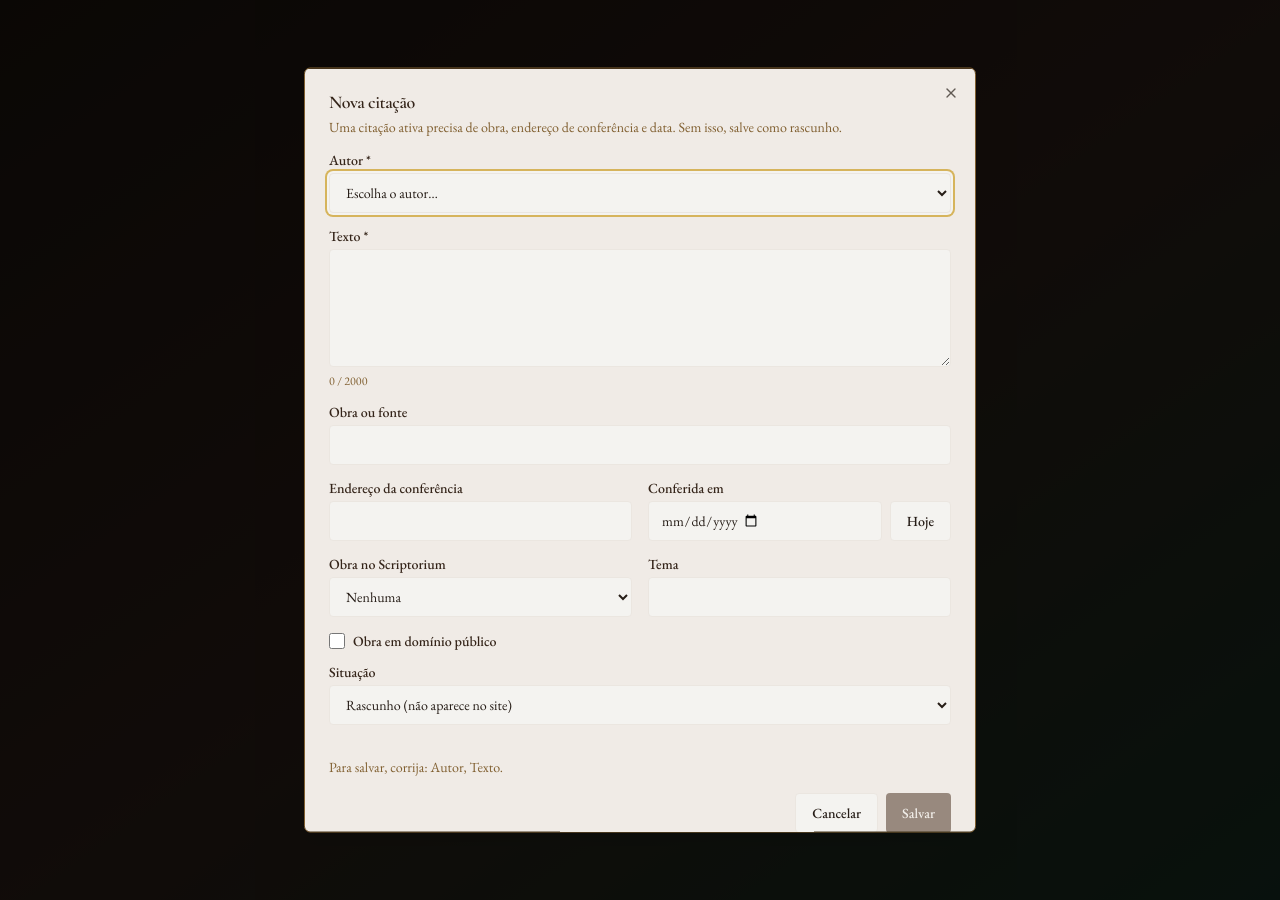
Test: QuoteFormDialog: aviso do Gerador › Salvar explica o motivo e os erros são anunciados (menores da revisão da F3) › o motivo some quando tudo está preenchido
This screenshot has width=1280, height=900.
Select "Santo Agostinho" in the dropdown labelled "Autor *" at (640, 192), box [329,172,951,212]
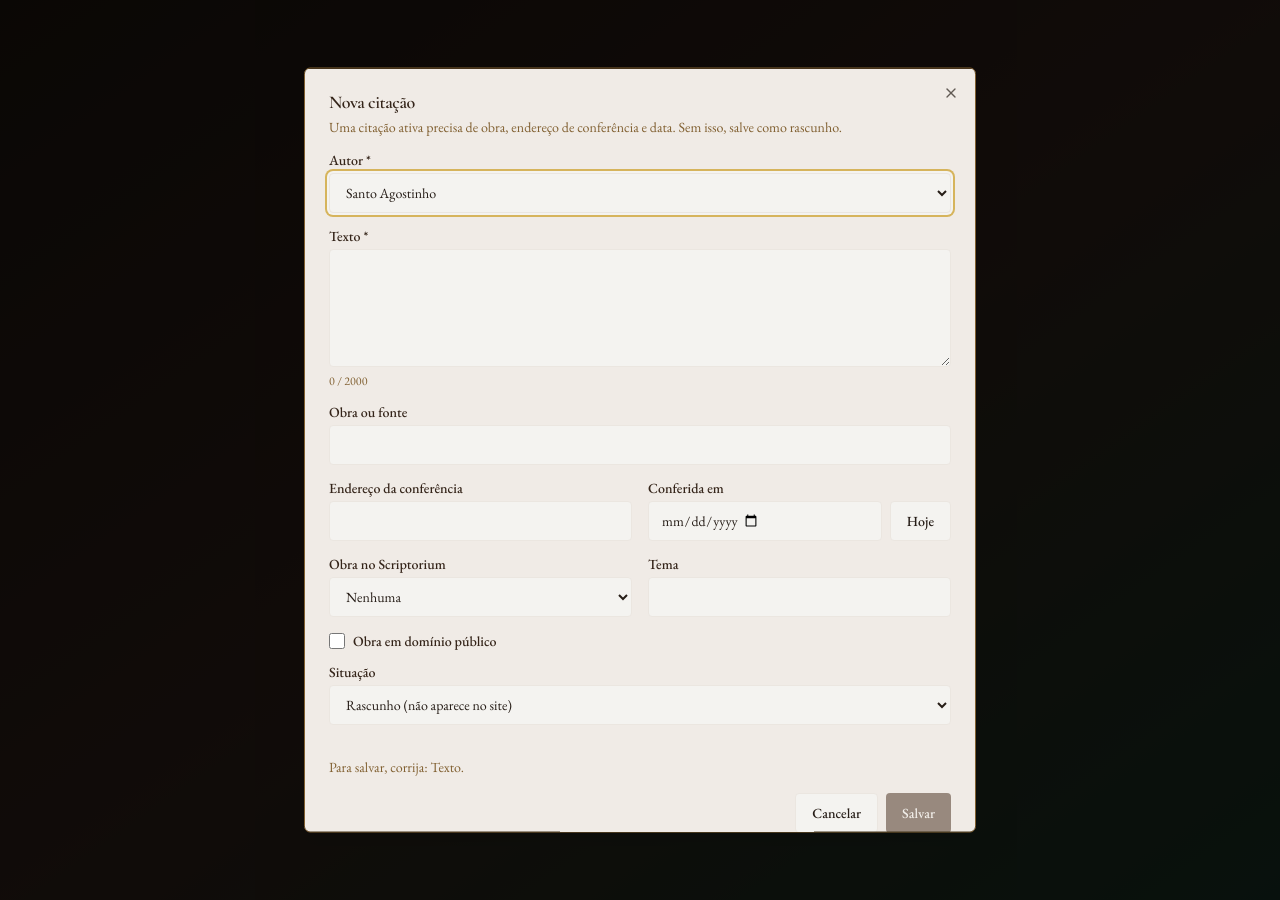
Type "Fizeste-nos para ti." into the text box labelled "Texto *" at (640, 308), box [329,248,951,366]
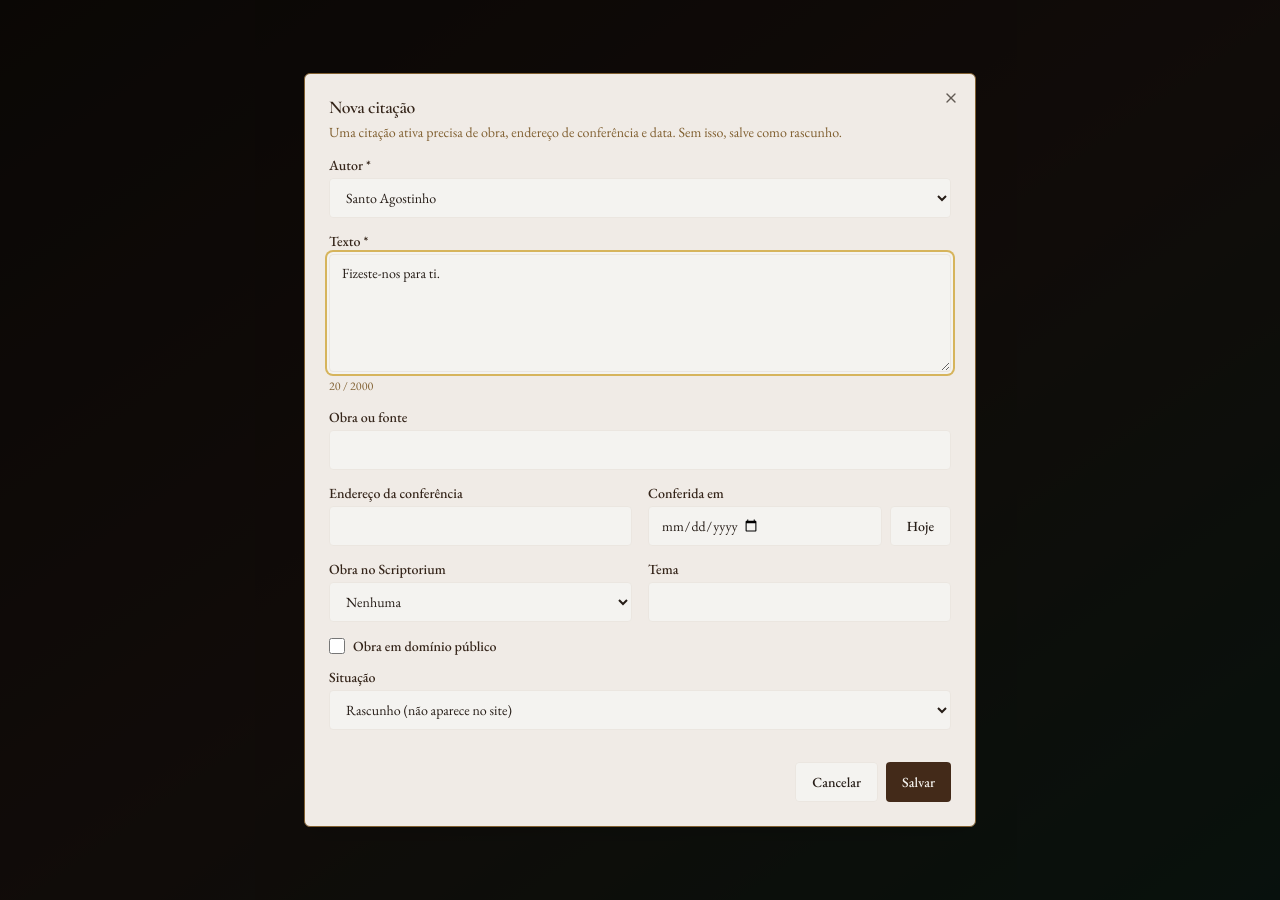
Result: the button "Salvar" is enabled at [886,762,951,802]
Result: the text "Para salvar" is gone
